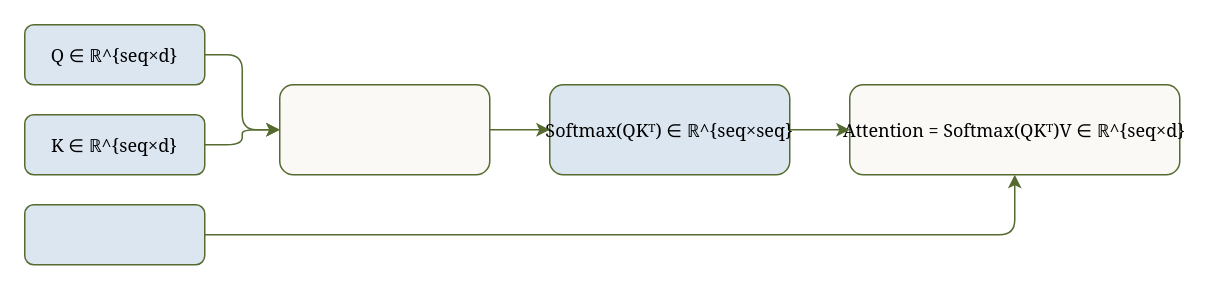
Image size: 1209x290. Some labels were removed from this diagram. The centre of each missing label's shape, as x and y in pixels:
"QKᵀ ∈ ℝ^{seq×seq}" belongs at point 384,129.
"V ∈ ℝ^{seq×d}" belongs at point 114,234.
